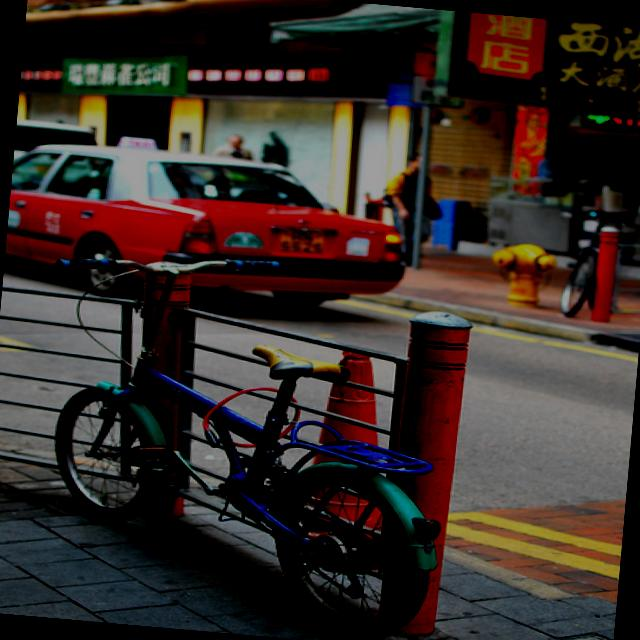Vehicle: (2, 126, 411, 316), (11, 120, 99, 192)
